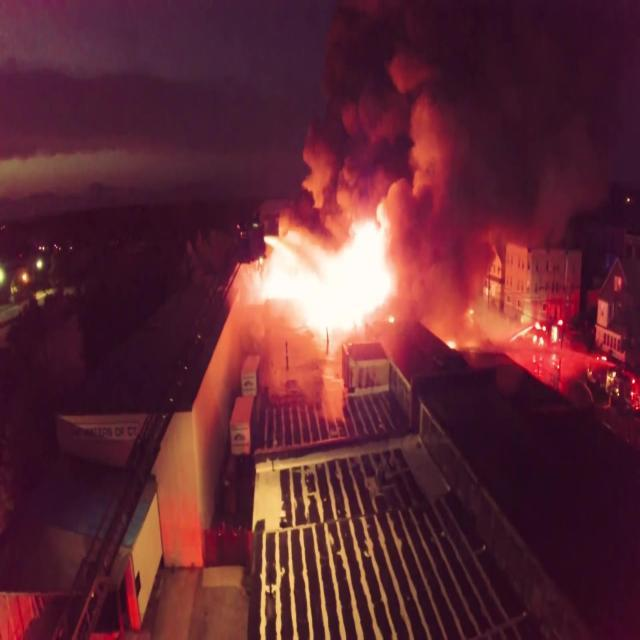Fire: (262, 216, 386, 330)
Smoke: (386, 26, 509, 217)
